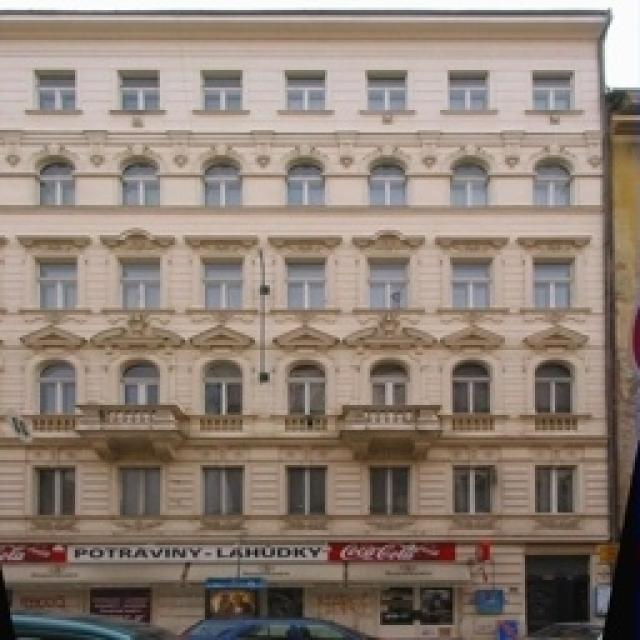building: (0, 5, 622, 622)
